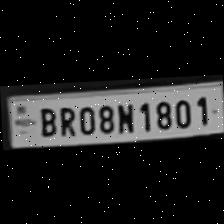0: (170, 96, 192, 129), (74, 101, 95, 135)
1: (132, 98, 152, 133), (192, 92, 212, 126)
8: (150, 96, 172, 130), (94, 100, 115, 134)
B: (34, 104, 56, 138)
N: (112, 99, 134, 134)
R: (54, 103, 75, 138)
